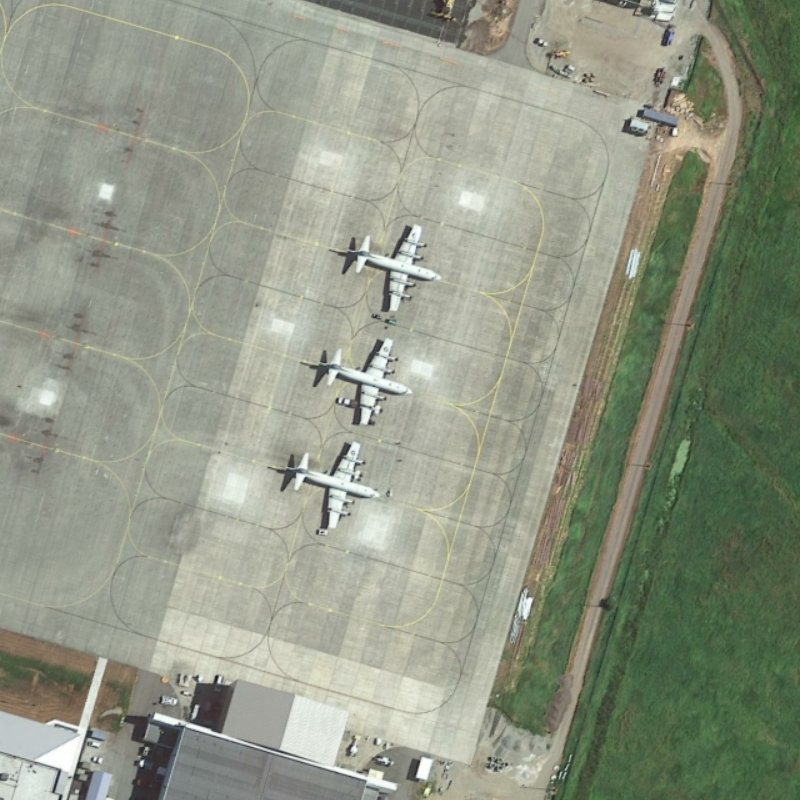A9: (326, 215, 448, 317), (297, 333, 418, 428), (265, 439, 385, 531)
